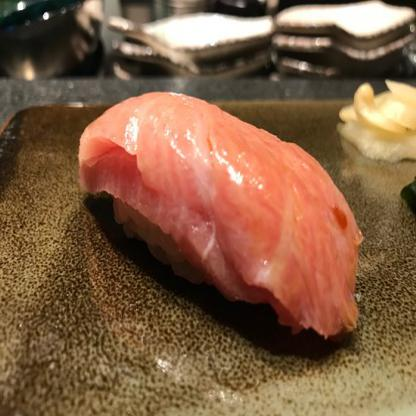toro: (67, 87, 377, 353)
